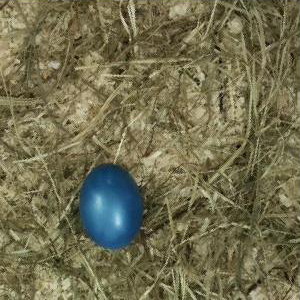egg: (80, 164, 142, 250)
